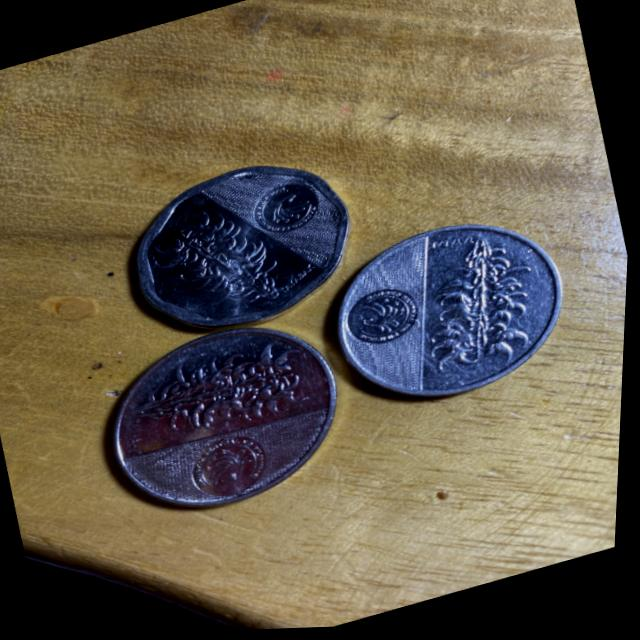5_New_Back: (403, 225, 549, 386), (132, 334, 308, 454), (149, 192, 294, 328)
